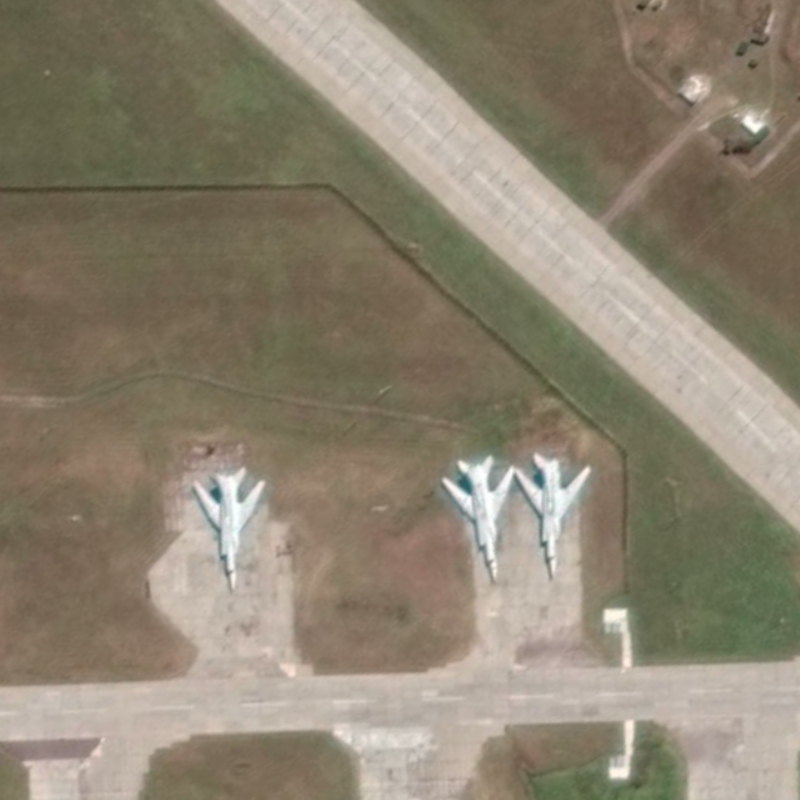A12: (512, 450, 594, 581), (439, 453, 517, 584), (189, 464, 267, 593)
